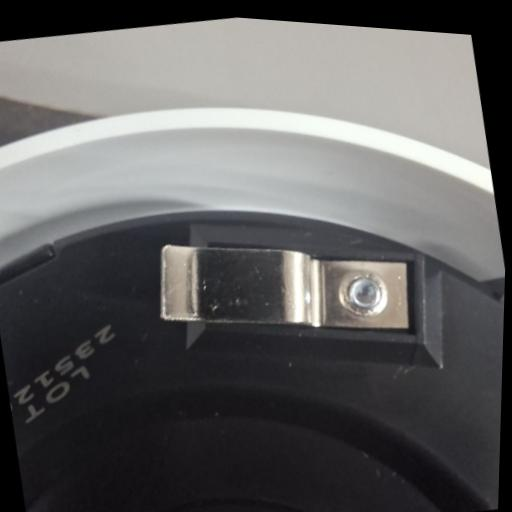yaysiz: (141, 199, 420, 377)
